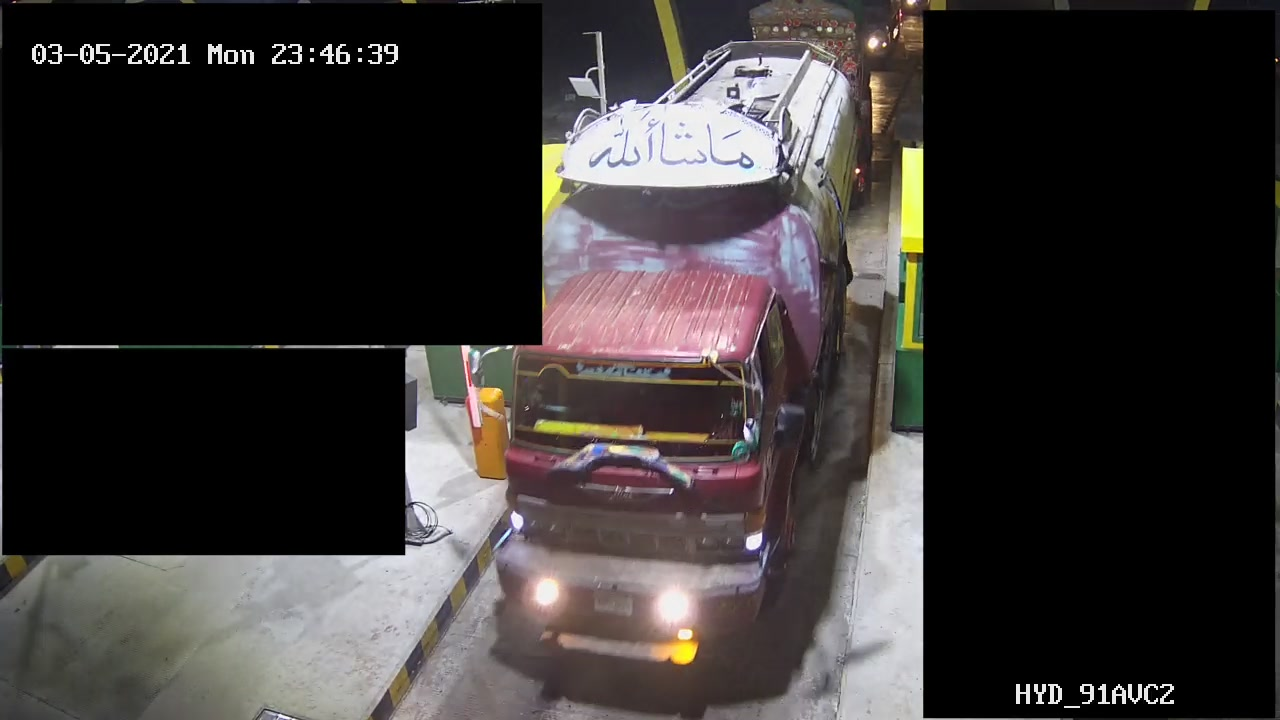F6: (471, 47, 880, 692)
